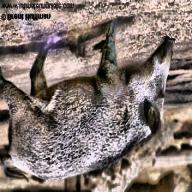boar: (8, 16, 183, 180)
